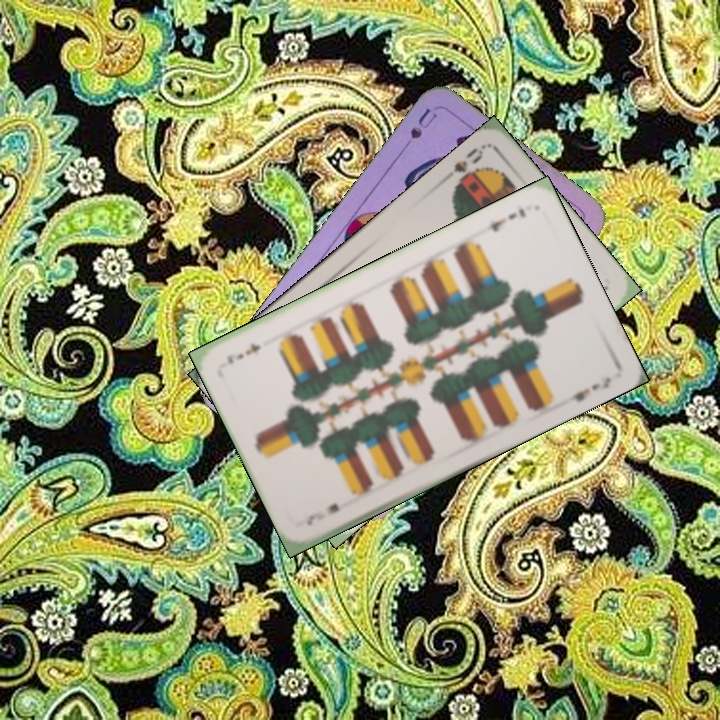E7: (485, 204, 528, 235), (302, 499, 343, 528)
SO: (437, 142, 487, 195)
SU: (396, 104, 440, 157)
